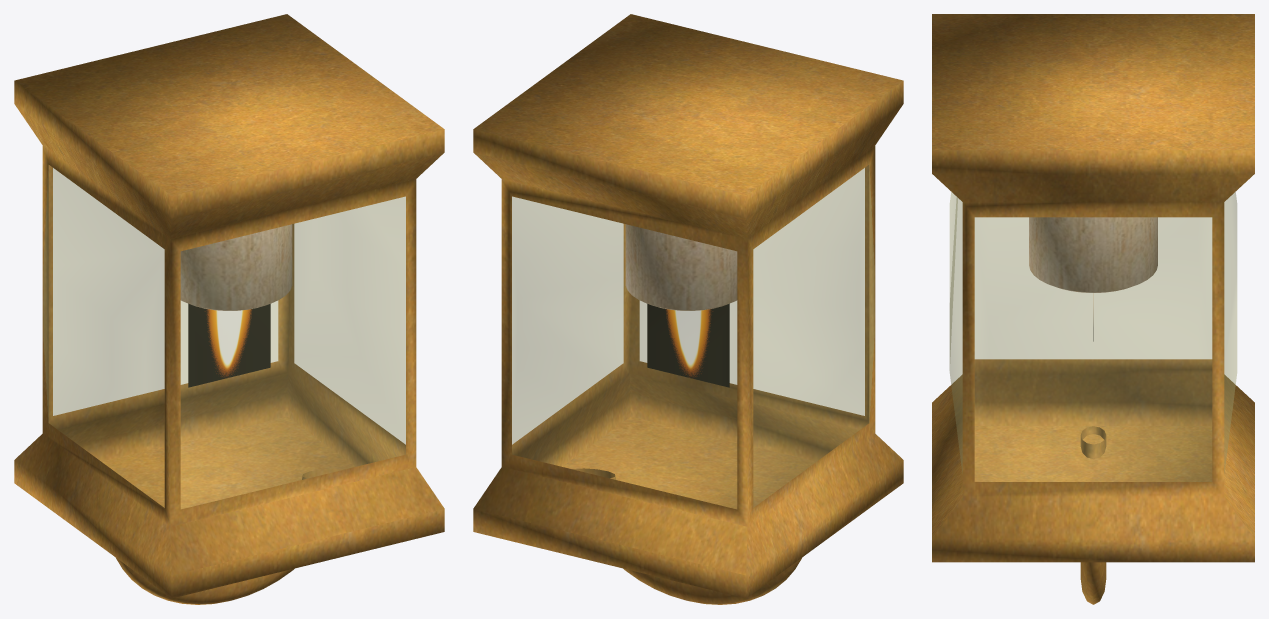
Rendered from candle_lantern.glb.
3 views of the same model, side by side, from view 1: azimuth 30°, elevation 25°; view 2: azimuth 150°, elevation 25°; view 3: azimuth 270°, elevation 25° (orthographic). The views are drawn at different scales.
Parts seen in each view (by area): view 1: Lamp; view 2: Lamp; view 3: Lamp.
Part boxes in pixels (left/top/right/bottom): Lamp: left=14, top=14, right=444, bottom=604; Lamp: left=473, top=14, right=903, bottom=604; Lamp: left=932, top=14, right=1254, bottom=604.
Bounding box in the file's own units: 2 × 3.47 × 2.
Materials: 4 (3 with a texture image).
